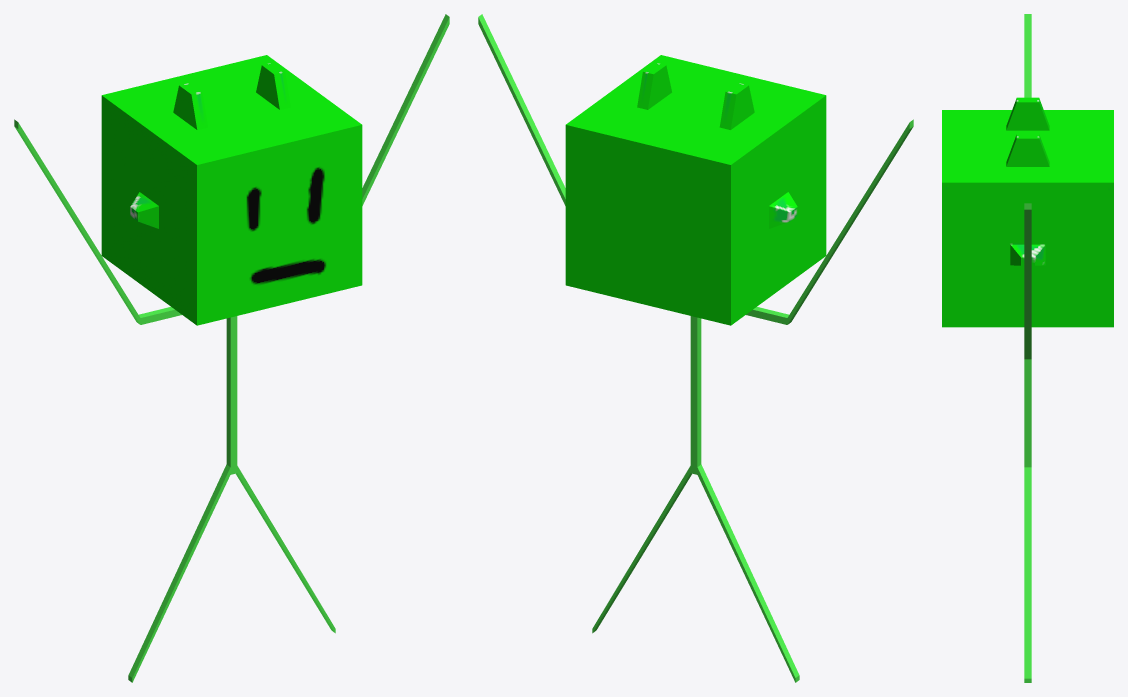
The model's file is takatozin.FBX.
The picture shows the model from 3 angles, left to right: view 1: azimuth 30°, elevation 25°; view 2: azimuth 150°, elevation 25°; view 3: azimuth 270°, elevation 25°; orthographic projection. The views are drawn at different scales.
Parts seen in each view (by area): view 1: Box001; view 2: Box001; view 3: Box001.
Boxes of the visible parts, bbox=[...] form: Box001: bbox=[14, 14, 449, 682]; Box001: bbox=[478, 14, 913, 682]; Box001: bbox=[942, 14, 1113, 682].
Bounding box in the file's own units: 91.36 × 35 × 119.
